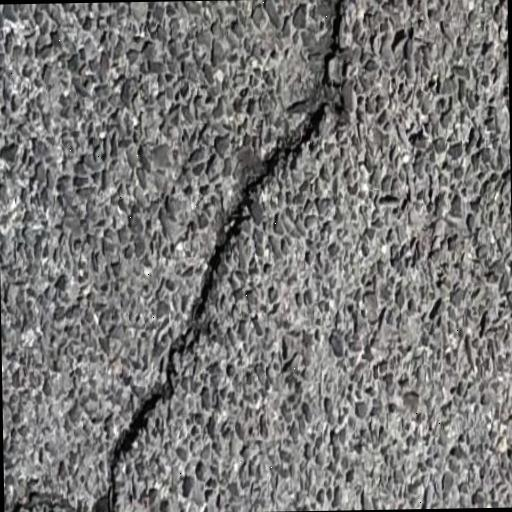spalling: (101, 4, 355, 511)
